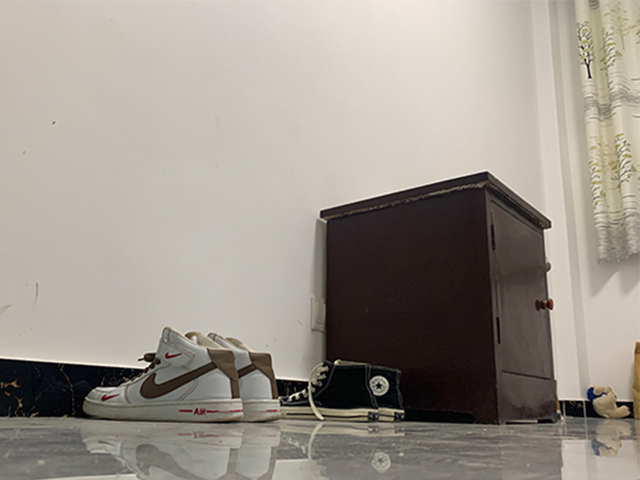cabinet: (319, 170, 564, 427)
curtain: (577, 1, 640, 264)
